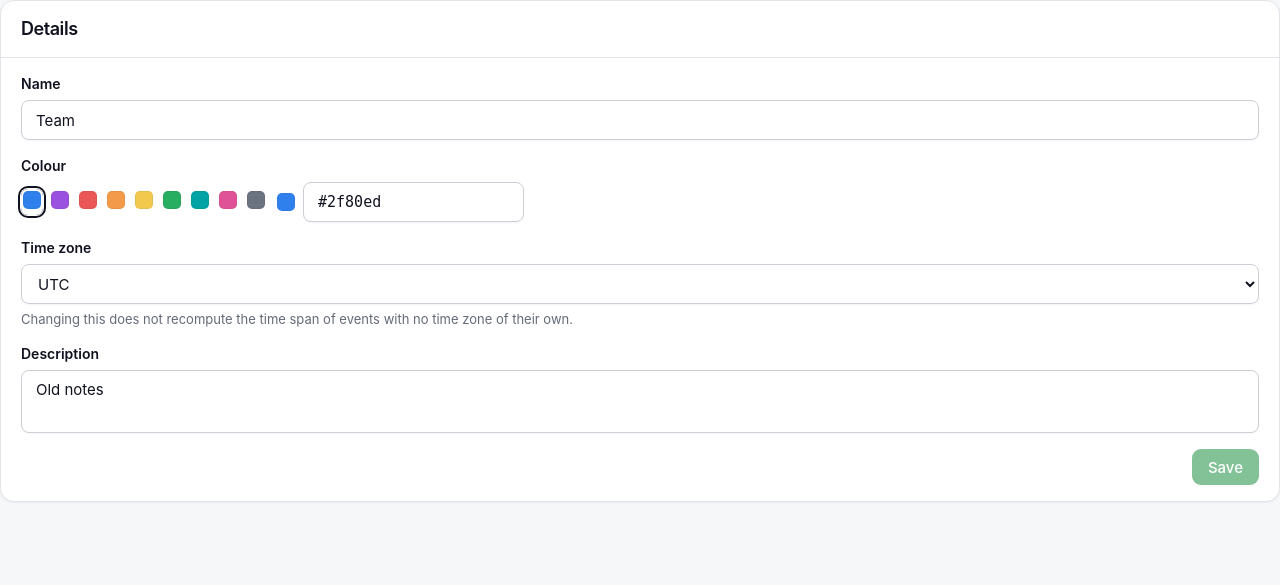
Test: on 412 it keeps what was typed and offers Reload, which brings the newest version
The image size is (1280, 585).
Replace the text in the field labelled "Name" with "My typing": (640, 120) [21, 100, 1259, 140]
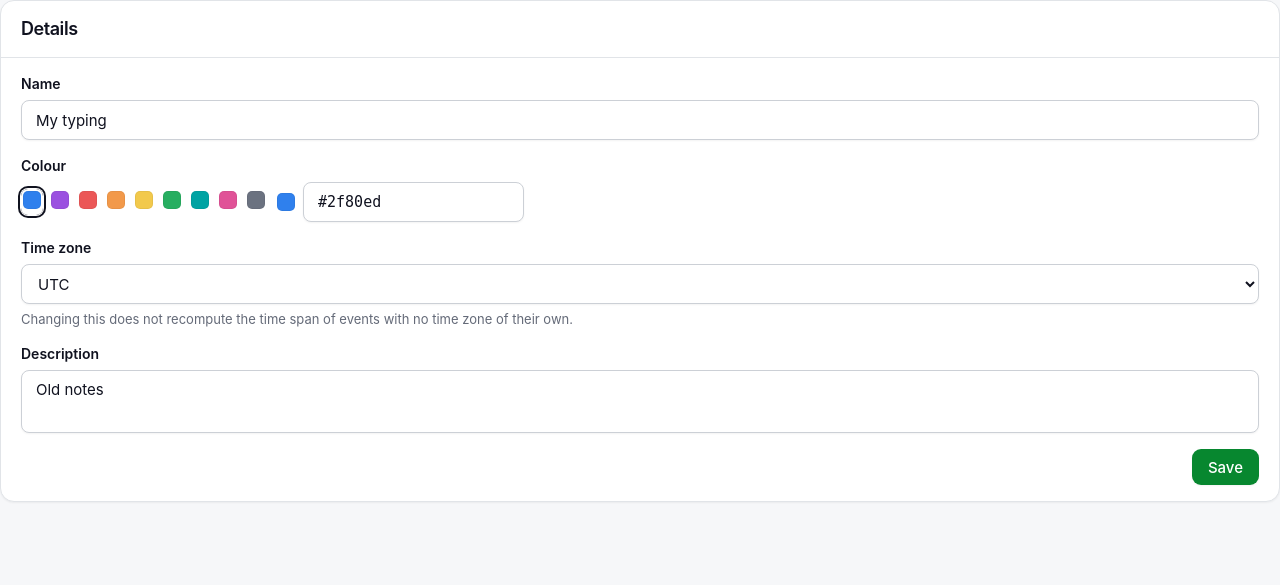
Click the button "Save": (1225, 467) [1192, 449, 1259, 485]
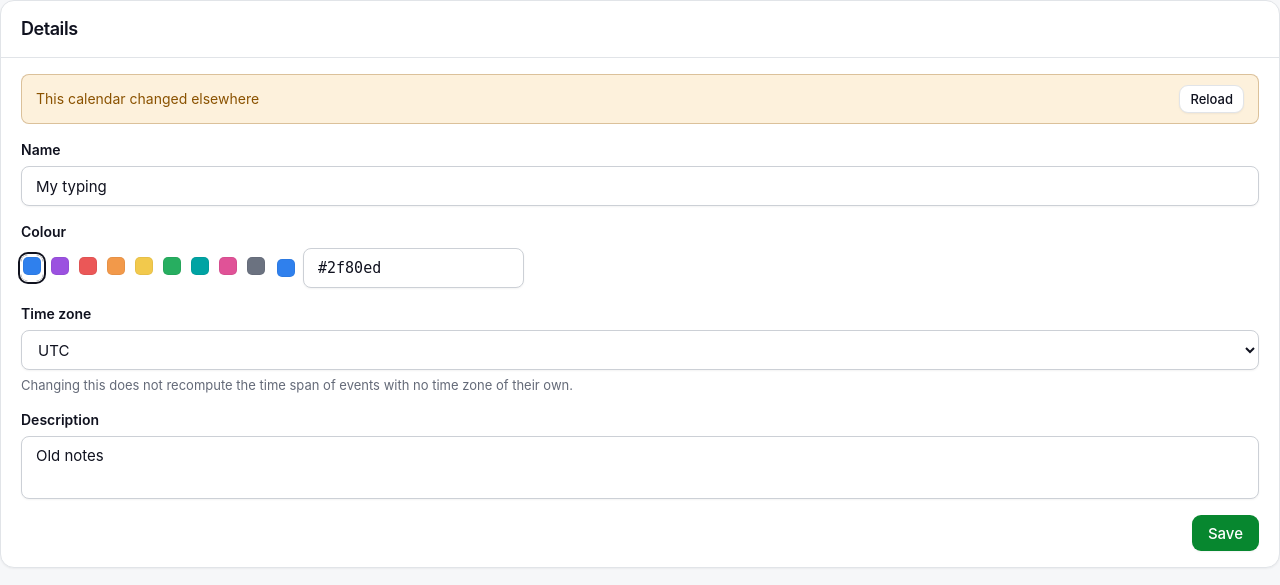
Check: the message shows "This calendar changed elsewhere", box [36, 90, 259, 107]
Click the button "Reload": (1212, 99) [1179, 85, 1244, 113]
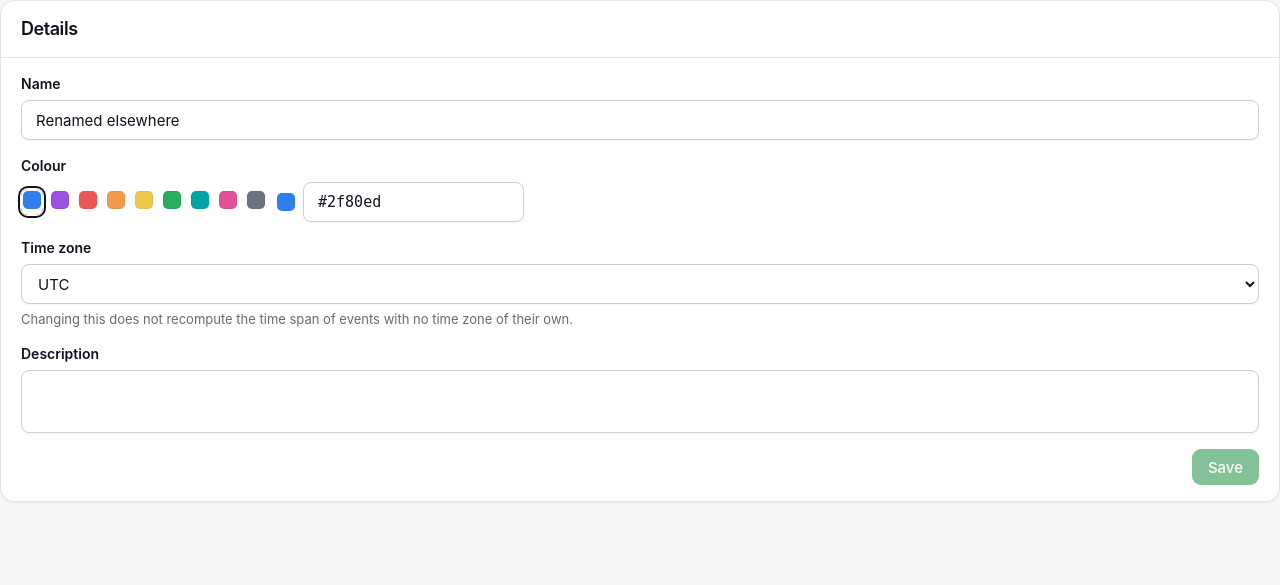
Check: the field labelled "Name" holds "Renamed elsewhere", box [21, 100, 1259, 140]
Check: the message "This calendar changed elsewhere Reload" is gone
